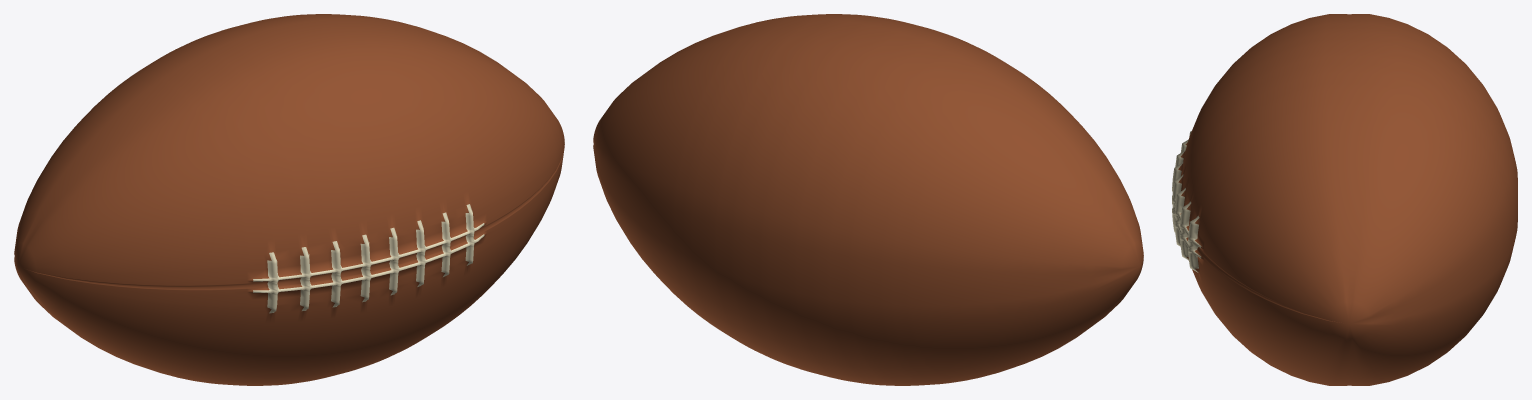
The model's file is A-NEW-20261027-FOOTBALL-001_LOD1_R2.glb.
3 renders of one model, left to right at view 1: azimuth 30°, elevation 25°; view 2: azimuth 150°, elevation 25°; view 3: azimuth 270°, elevation 25°, orthographic. The views are drawn at different scales.
Parts seen in each view (by area): view 1: continuous original football body seam and lacing; view 2: continuous original football body seam and lacing; view 3: continuous original football body seam and lacing.
Boxes of the visible parts, x1=… form: continuous original football body seam and lacing: x1=14, y1=14, x2=564, y2=385; continuous original football body seam and lacing: x1=593, y1=14, x2=1143, y2=385; continuous original football body seam and lacing: x1=1172, y1=14, x2=1517, y2=385.
Size of the model in its own units: 0.29 by 0.1664 by 0.1708.
